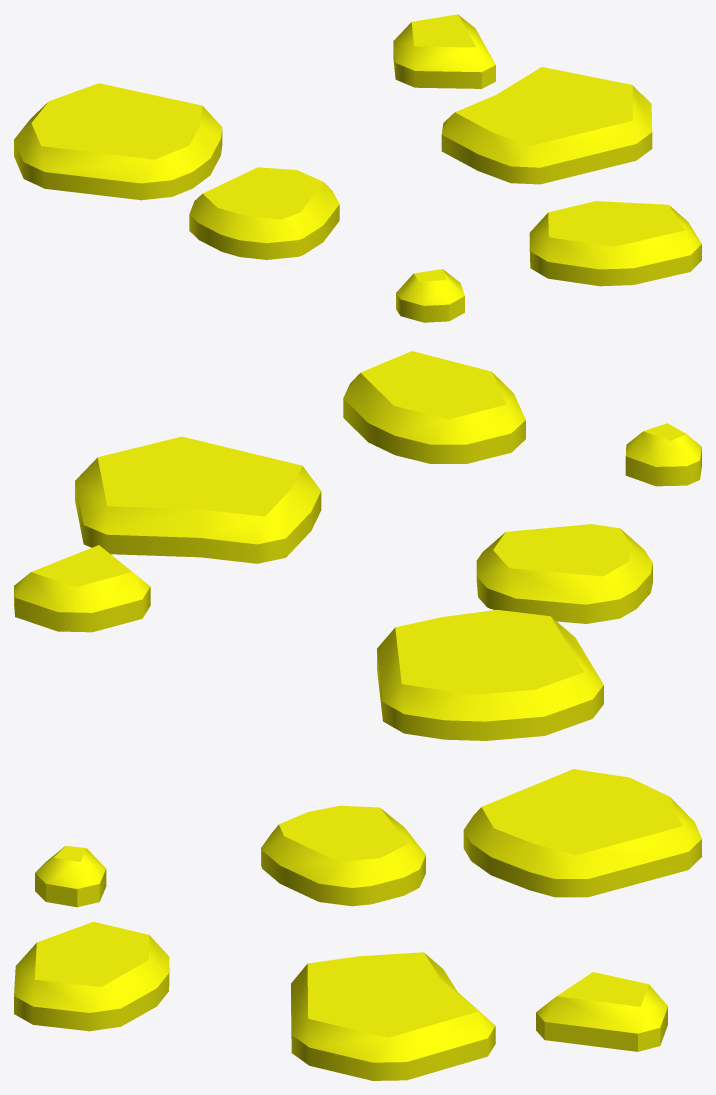
Rendered from kaykit-path-d.glb.
3 views of the same model, one above another, from view 1: azimuth 30°, elevation 25°; view 2: azimuth 150°, elevation 25°; view 3: azimuth 270°, elevation 25° (orthographic). The views are drawn at different scales.
Visible parts, largest first — view 1: path_D; view 2: path_D; view 3: path_D.
Part boxes in pixels (left/top/right/bottom): path_D: left=14, top=14, right=701, bottom=322; path_D: left=14, top=351, right=701, bottom=740; path_D: left=14, top=769, right=701, bottom=1080.
Bounding box in the file's own units: 1.66 × 0.1 × 1.71.
